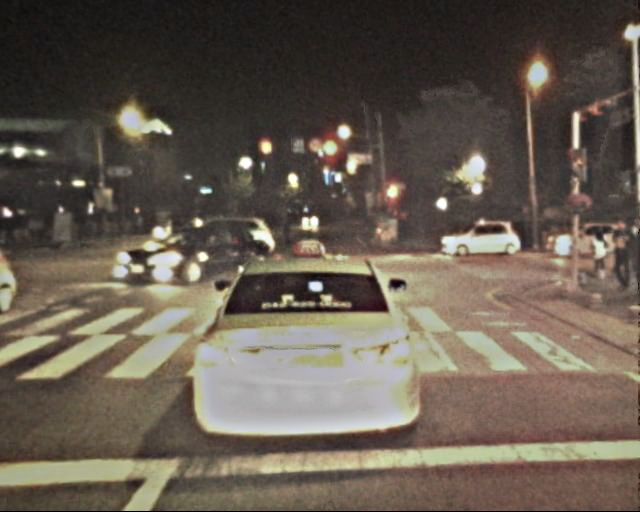person: (607, 218, 638, 293), (585, 225, 608, 281), (278, 214, 293, 251)
